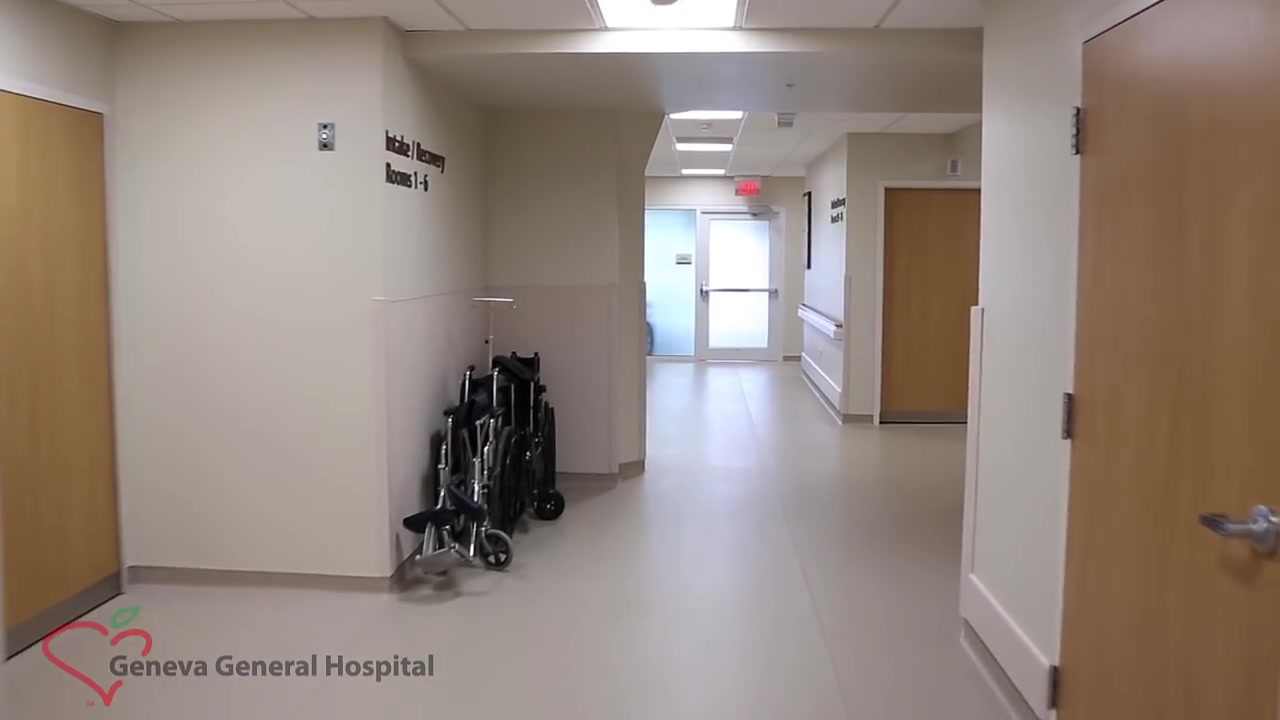door_handle: (1198, 502, 1280, 554)
hallway_assist_bar: (797, 303, 844, 341)
iv_pole: (471, 297, 517, 374)
push_latch: (698, 279, 776, 300)
wheel_chair: (420, 350, 566, 570)
